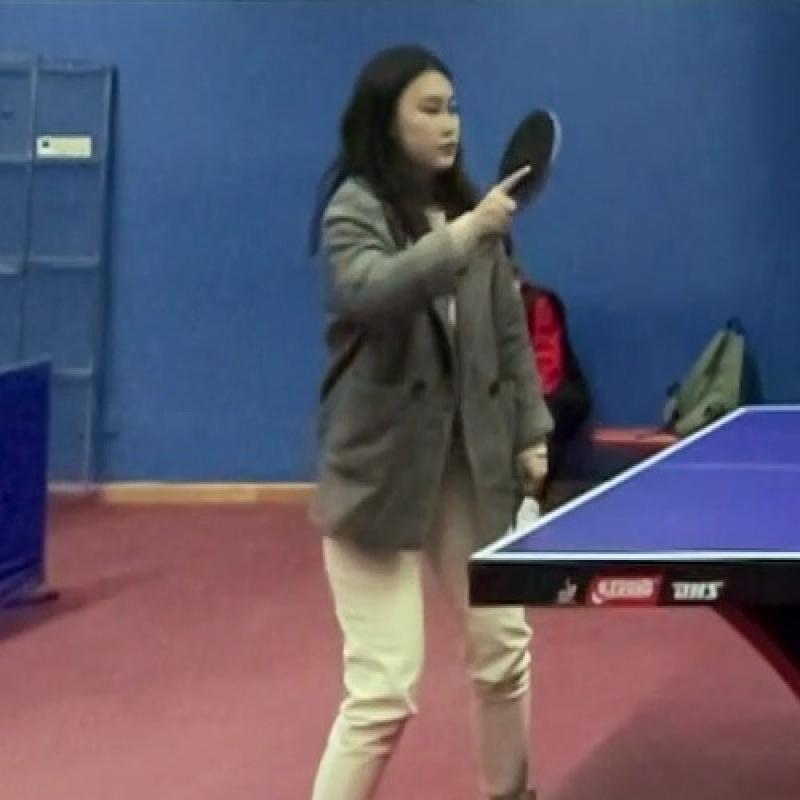bats: (482, 107, 570, 228)
